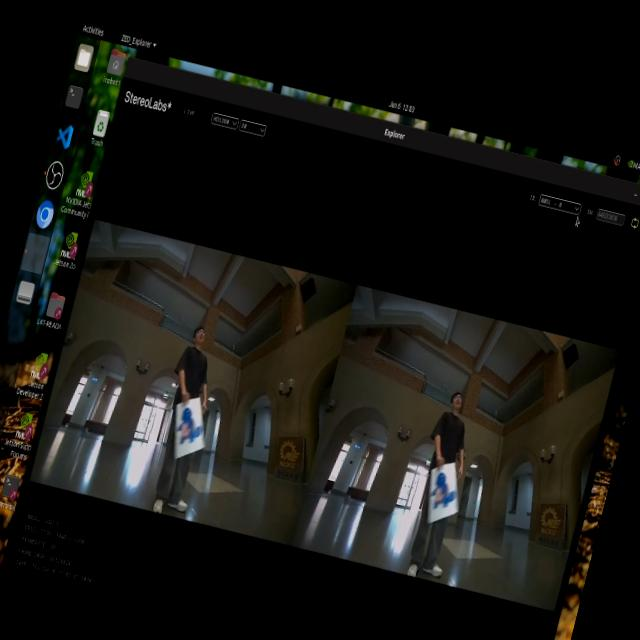blue: (168, 399, 214, 452), (426, 468, 464, 520)
